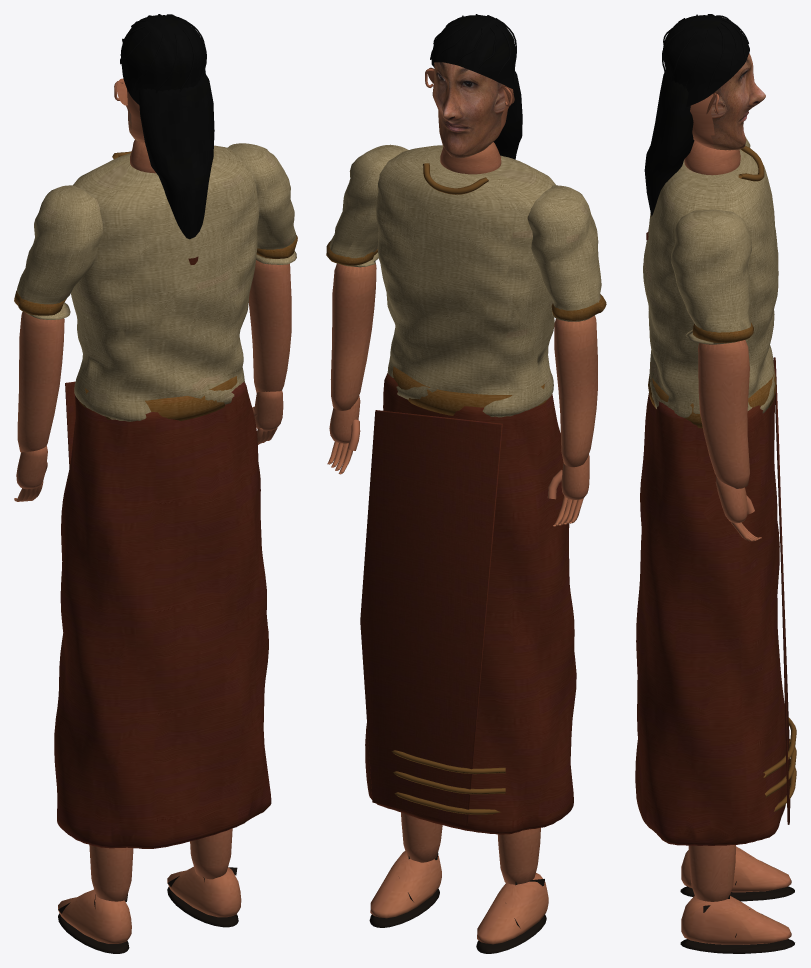
File: witness-amazonia.glb
3 views of the same model, side by side, from view 1: azimuth 30°, elevation 25°; view 2: azimuth 150°, elevation 25°; view 3: azimuth 270°, elevation 25° (orthographic). The views are drawn at different scales.
Visible parts, largest first — view 1: BodySurface, LeftArmSurface, RightArmSurface, LeftLegSurface, RightLegSurface; view 2: BodySurface, LeftArmSurface, RightArmSurface, LeftLegSurface, RightLegSurface; view 3: BodySurface, RightArmSurface, RightLegSurface, LeftLegSurface.
Boxes of the visible parts, bbox=[...] form: BodySurface: bbox=[54, 14, 271, 848]; LeftArmSurface: bbox=[14, 185, 103, 501]; RightArmSurface: bbox=[227, 143, 297, 444]; LeftLegSurface: bbox=[58, 845, 133, 953]; RightLegSurface: bbox=[167, 828, 241, 927]; BodySurface: bbox=[360, 14, 576, 834]; LeftArmSurface: bbox=[527, 185, 606, 526]; RightArmSurface: bbox=[326, 144, 408, 474]; LeftLegSurface: bbox=[476, 828, 548, 953]; RightLegSurface: bbox=[369, 812, 442, 927]; BodySurface: bbox=[635, 14, 796, 845]; RightArmSurface: bbox=[671, 209, 761, 541]; RightLegSurface: bbox=[680, 845, 794, 953]; LeftLegSurface: bbox=[680, 846, 794, 901].
Size of the model in its own units: 0.5201 by 1.64 by 0.2663.
7 materials, 7 textured.
